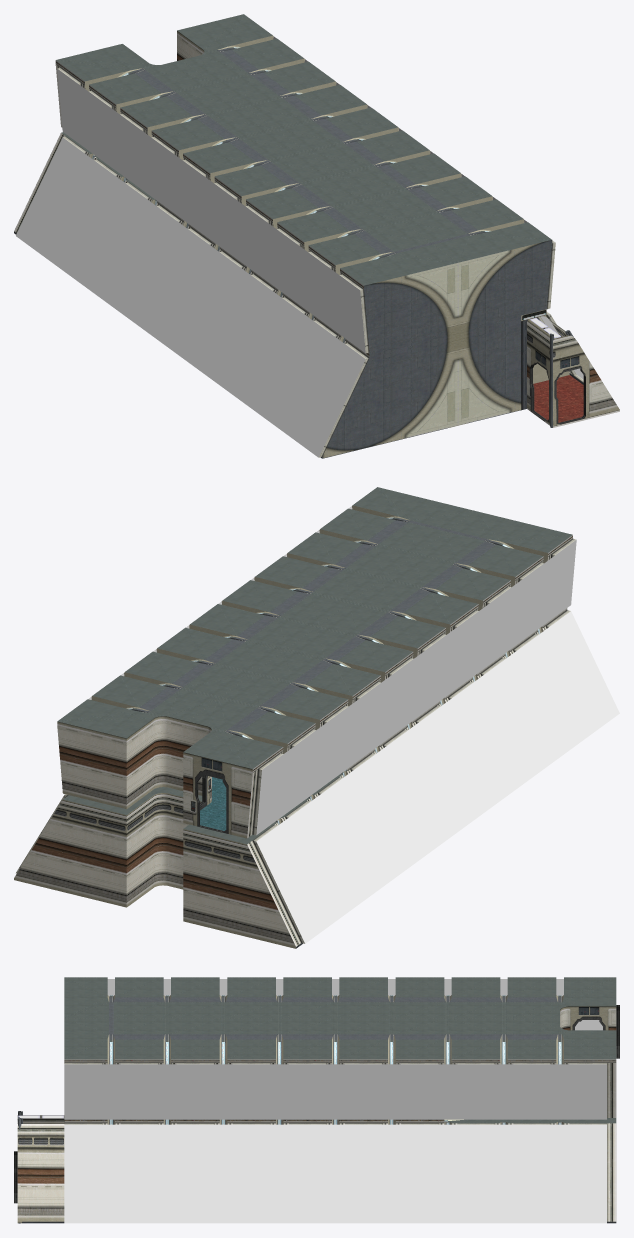
The model's file is sorosuub_space_yacht_r6_observationdeck_mesh_r6.fbx.
3 renders of one model, top to bottom at view 1: azimuth 30°, elevation 25°; view 2: azimuth 150°, elevation 25°; view 3: azimuth 270°, elevation 25°, orthographic. The views are drawn at different scales.
Parts seen in each view (by area): view 1: mesh_node; view 2: mesh_node; view 3: mesh_node.
Boxes of the visible parts, <box> form: mesh_node: <box>14,14,619,458</box>; mesh_node: <box>14,487,619,948</box>; mesh_node: <box>14,977,619,1223</box>.
Size of the model in its own units: 15.4 by 8.6 by 32.4.
